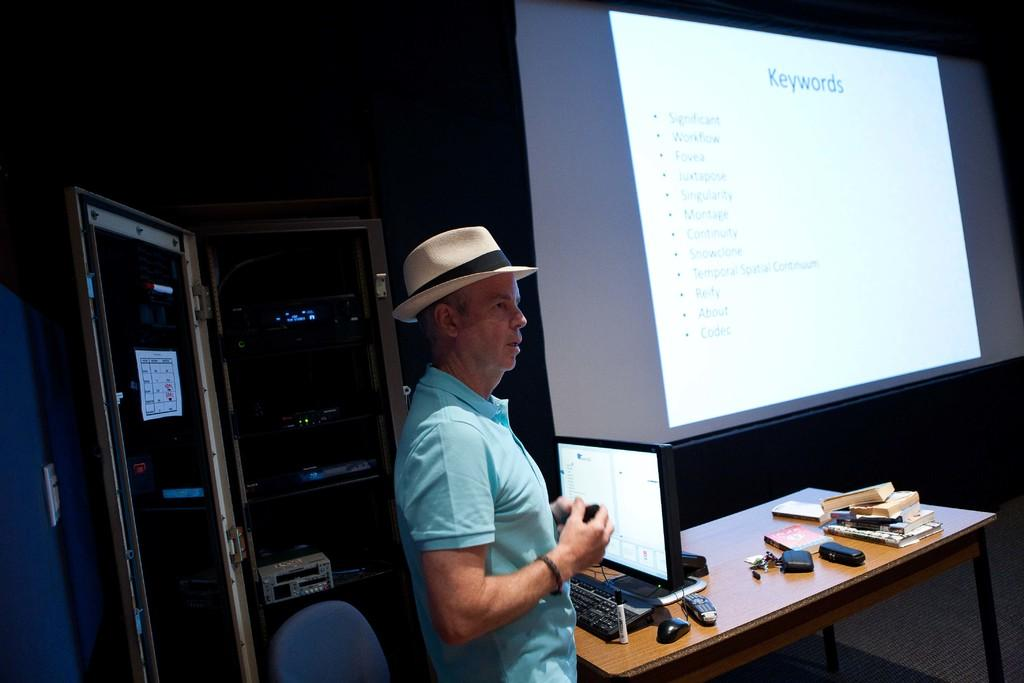Chair: (266, 599, 390, 682)
Laptop: (553, 434, 702, 607)
